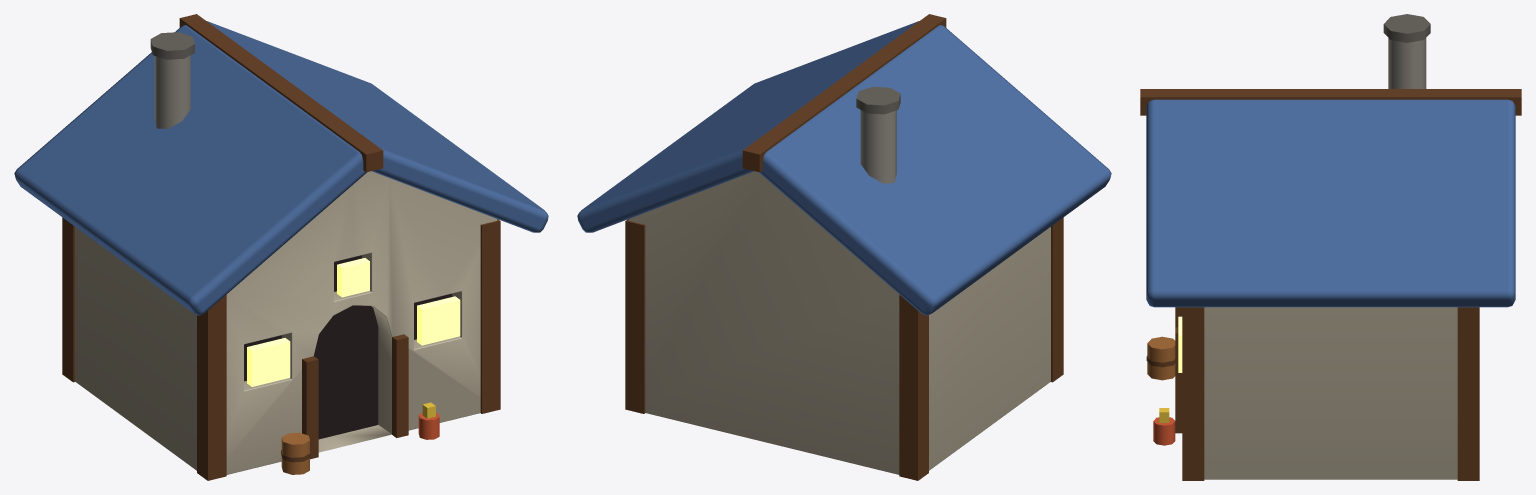
Rendered from Buildings__cottage_b.glb.
The picture shows the model from 3 angles, left to right: view 1: azimuth 30°, elevation 25°; view 2: azimuth 150°, elevation 25°; view 3: azimuth 270°, elevation 25°; orthographic projection. The views are drawn at different scales.
Visible parts, largest first — view 1: cottage_b_mesh; view 2: cottage_b_mesh; view 3: cottage_b_mesh.
Boxes of the visible parts, x1,y1,x2,y2 form: cottage_b_mesh: (14, 14, 548, 480); cottage_b_mesh: (577, 14, 1111, 480); cottage_b_mesh: (1140, 14, 1521, 480).
Size of the model in its own units: 2.11 by 1.91 by 1.9.
